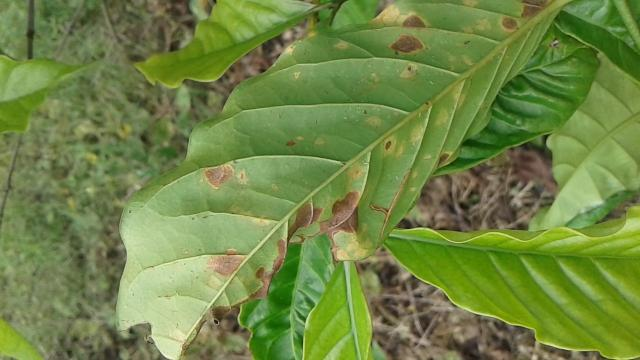rust_level_3: (115, 0, 576, 358)
